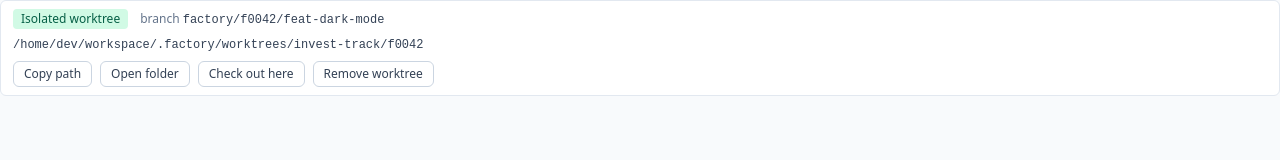
where a task works - on the run screen › copies the path
The width and height of the screenshot is (1280, 160).
Click the button "Copy path" at (53,74), box [13,61,92,87]
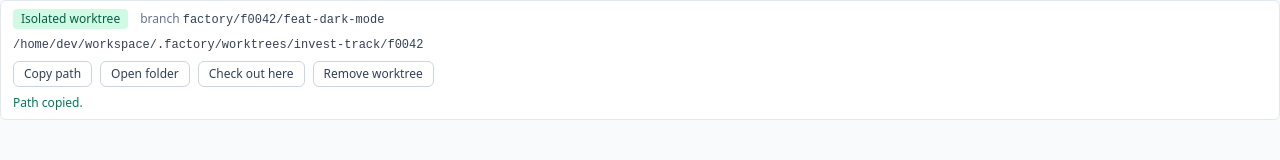
Result: the message with test id "work-notice" reads "Path copied." at [13,94,83,111]
